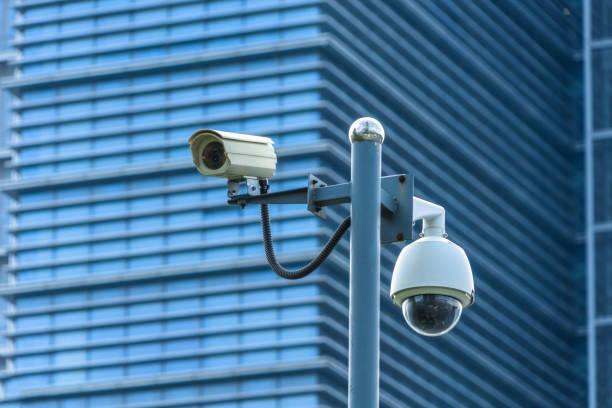camera: (370, 221, 499, 346), (175, 119, 284, 186)
